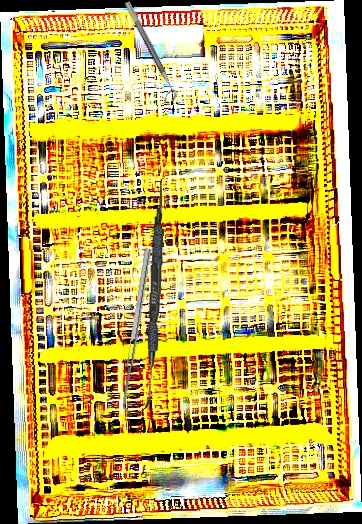Fixation Ring: (115, 0, 181, 106)
Spatula Surgical: (119, 248, 158, 415), (144, 177, 166, 410)
